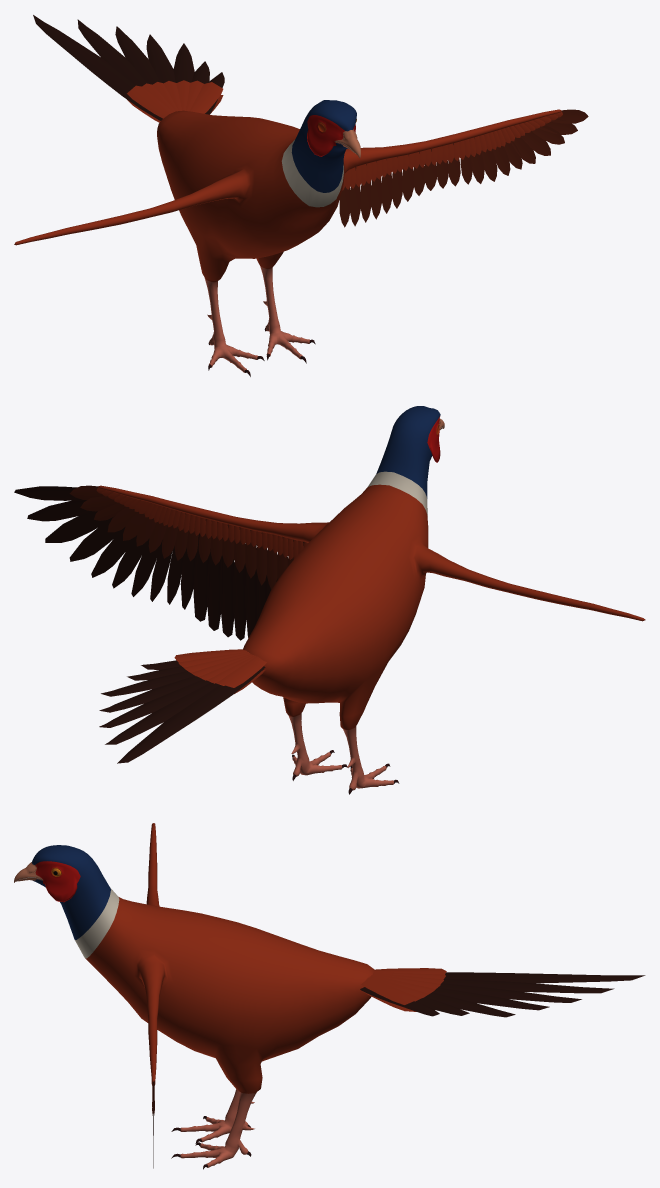
Rendered from pheasant.obj.
3 renders of one model, top to bottom at view 1: azimuth 30°, elevation 25°; view 2: azimuth 150°, elevation 25°; view 3: azimuth 270°, elevation 25°, orthographic. The views are drawn at different scales.
Parts seen in each view (by area): view 1: pheasant, feather_tail_primary_007, feather_tail_primary_006, feather_tail_primary_005, feather_tail_primary_004, feather_tail_secondary_007, feather_tail_secondary_001, feather_tail_primary_003; view 2: pheasant, feather_tail_primary_007, feather_tail_primary_006, feather_tail_primary_005, feather_flight_primary_010, feather_flight_primary_009, feather_flight_primary_011, feather_flight_primary_019, feather_flight_primary_008, feather_tail_primary_004, feather_flight_primary_018, feather_flight_primary_020 (+10 smaller); view 3: pheasant, feather_tail_primary_007, feather_tail_primary_006, feather_tail_primary_005, feather_tail_primary_004, feather_tail_primary_003, feather_tail_secondary_001.
Boxes of the visible parts, box(x1,y1,x2,y2) form: pheasant: box(14, 100, 561, 376); feather_tail_primary_007: box(33, 15, 162, 120); feather_tail_primary_006: box(77, 19, 147, 86); feather_tail_primary_005: box(115, 26, 160, 84); feather_tail_primary_004: box(146, 34, 175, 83); feather_tail_secondary_007: box(127, 85, 173, 118); feather_tail_secondary_001: box(189, 82, 223, 113); feather_tail_primary_003: box(173, 43, 194, 82); pheasant: box(98, 406, 645, 794); feather_tail_primary_007: box(117, 666, 265, 763); feather_tail_primary_006: box(105, 682, 219, 744); feather_tail_primary_005: box(99, 679, 210, 727); feather_flight_primary_010: box(207, 549, 223, 630); feather_flight_primary_009: box(220, 555, 235, 637); feather_flight_primary_011: box(193, 533, 210, 621); feather_flight_primary_019: box(45, 511, 111, 542); feather_flight_primary_008: box(233, 562, 247, 640); feather_tail_primary_004: box(99, 676, 202, 712); feather_flight_primary_018: box(69, 516, 125, 561); feather_flight_primary_020: box(27, 499, 94, 521); pheasant: box(14, 823, 374, 1169); feather_tail_primary_007: box(444, 972, 645, 983); feather_tail_primary_006: box(442, 978, 614, 993); feather_tail_primary_005: box(438, 983, 581, 1002); feather_tail_primary_004: box(432, 987, 549, 1010); feather_tail_primary_003: box(425, 992, 515, 1017); feather_tail_secondary_001: box(361, 977, 422, 1004).
Bounding box in the file's own units: 0.8007 × 0.3722 × 0.7178.
